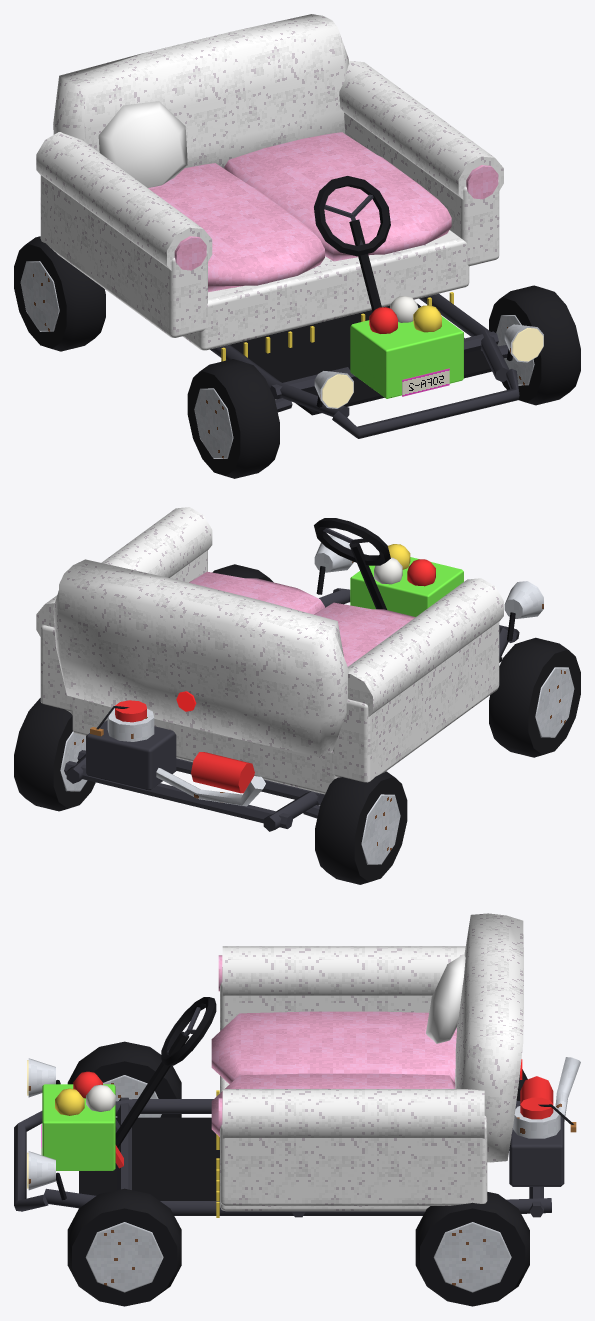
Rendered from s_sofakart.glb.
3 views of the same model, one above another, from view 1: azimuth 30°, elevation 25°; view 2: azimuth 150°, elevation 25°; view 3: azimuth 270°, elevation 25° (orthographic).
Visible parts, largest first — view 1: s_sofakart_mesh, wheel_fr, wheel_rr, wheel_fl; view 2: s_sofakart_mesh, wheel_fr, wheel_rr, wheel_rl, wheel_fl; view 3: s_sofakart_mesh, wheel_fl, wheel_rl, wheel_fr.
Boxes of the visible parts, x1,y1,x2,y2 form: s_sofakart_mesh: [36, 14, 543, 438]; wheel_fr: [187, 359, 279, 478]; wheel_rr: [14, 236, 105, 351]; wheel_fl: [489, 285, 580, 405]; s_sofakart_mesh: [36, 507, 543, 831]; wheel_fr: [489, 637, 580, 757]; wheel_rr: [315, 771, 407, 884]; wheel_rl: [14, 698, 95, 811]; wheel_fl: [212, 564, 273, 582]; s_sofakart_mesh: [14, 913, 580, 1217]; wheel_fl: [67, 1188, 181, 1306]; wheel_rl: [415, 1192, 529, 1306]; wheel_fr: [67, 1041, 181, 1117].
Size of what is drawn, in the model's own units: 2.16 by 1.55 by 3.1.
Materials: 6 (6 with a texture image).
